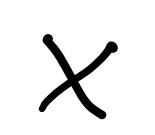mult: (39, 34, 118, 119)
